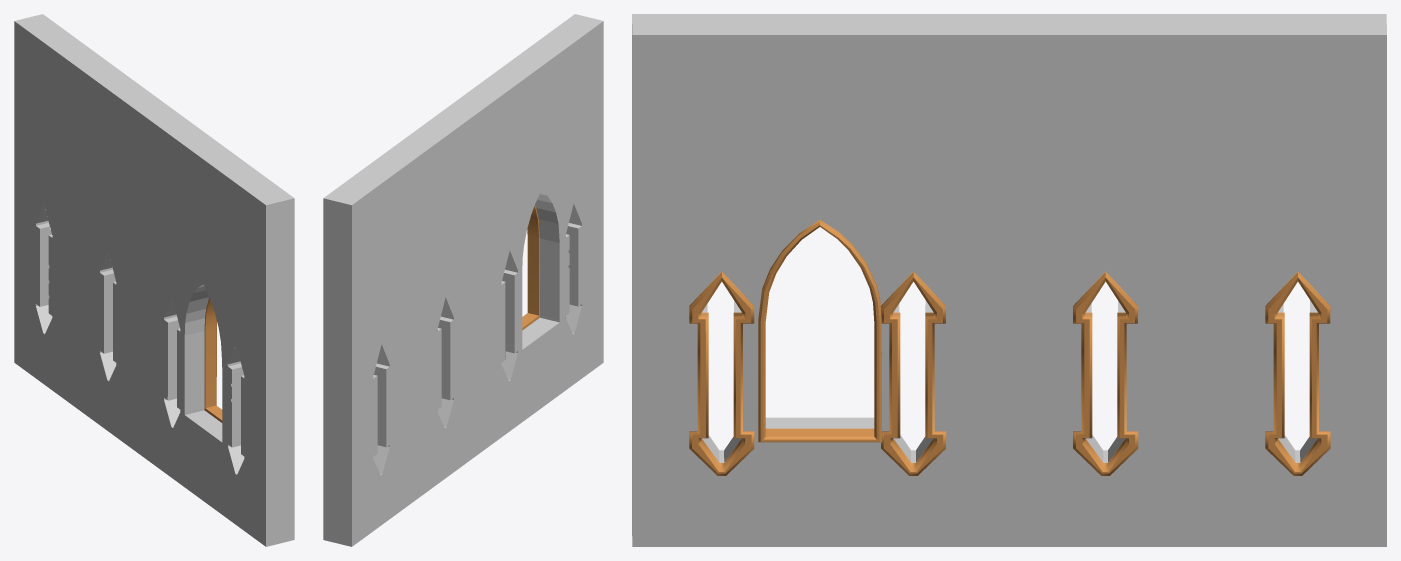
File: Wall1_Gold.fbx
3 views of the same model, side by side, from view 1: azimuth 30°, elevation 25°; view 2: azimuth 150°, elevation 25°; view 3: azimuth 270°, elevation 25° (orthographic). The views are drawn at different scales.
Visible parts, largest first — view 1: Wall2.001; view 2: Wall2.001; view 3: Wall2.001.
Boxes of the visible parts, left/top/right/bottom form: Wall2.001: left=14, top=14, right=294, bottom=546; Wall2.001: left=323, top=14, right=603, bottom=546; Wall2.001: left=632, top=14, right=1386, bottom=546.
Bounding box in the file's own units: 148 × 1491 × 1991.
